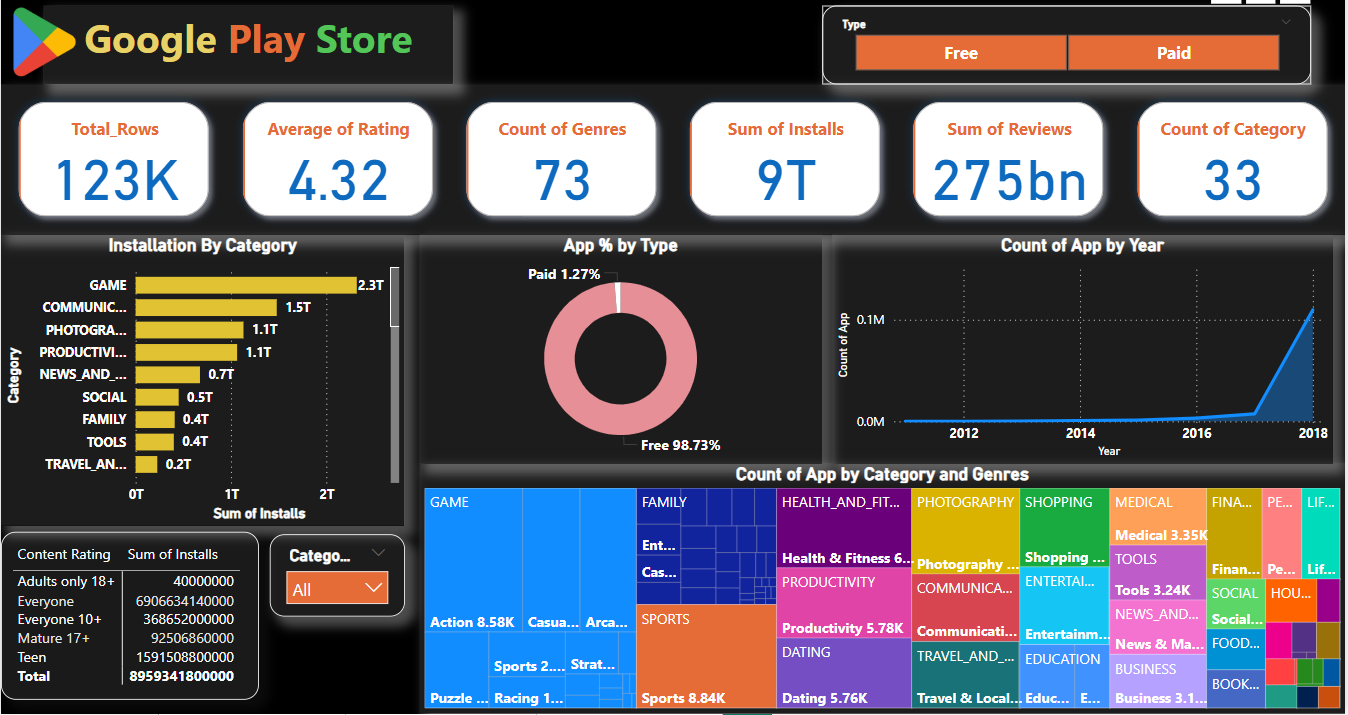

The page's visual inventory and layout, read from the dashboard file:
{"tool":"powerbi","page":{"name":"Play store Analysis-2","canvas":[1280,720],"ordinal":1},"visuals":[{"type":"cardVisual","fields":{"Data":["Playstore_user-review _analysis.Total_Rows","Avg(Playstore_user-review _analysis.Rating)","Count(Playstore_user-review _analysis.Genres)","Sum(Playstore_user-review _analysis.Installs)","Sum(Playstore_user-review _analysis.Reviews)","Count(Playstore_user-review _analysis.Category)"]},"box":[0,119.9,1280.3,143.1],"z":0},{"type":"barChart","title":"Installation By Category","fields":{"Category":["Playstore_user-review _analysis.Category"],"Y":["Sum(Playstore_user-review _analysis.Installs)"]},"box":[0,263,384.4,277.4],"z":1000},{"type":"slicer","fields":{"Values":["Playstore_user-review _analysis.Type"]},"box":[781.8,44.8,465.3,75.1],"z":2000},{"type":"textbox","box":[40.5,44.8,390.2,75.1],"z":3000},{"type":"image","box":[4.3,39,72.3,80.9],"z":4000},{"type":"donutChart","title":"App % by Type","fields":{"Category":["Playstore_user-review _analysis.Type"],"Y":["Playstore_user-review _analysis.Total_Rows"]},"box":[398.8,263,382.9,218.2],"z":5000},{"type":"areaChart","fields":{"Category":["Playstore_user-review _analysis.Last Updated.Variation.Date Hierarchy.Year","Playstore_user-review _analysis.Last Updated.Variation.Date Hierarchy.Quarter","Playstore_user-review _analysis.Last Updated.Variation.Date Hierarchy.Month","Playstore_user-review _analysis.Last Updated.Variation.Date Hierarchy.Day"],"Y":["CountNonNull(Playstore_user-review _analysis.App)"]},"box":[791.9,263,476.9,218.2],"z":6000},{"type":"pivotTable","fields":{"Rows":["Playstore_user-review _analysis.Content Rating"],"Values":["Sum(Playstore_user-review _analysis.Installs)"]},"box":[0,546.2,245.7,160.4],"z":7000},{"type":"slicer","fields":{"Values":["Playstore_user-review _analysis.Category"]},"box":[255.8,549.1,128.6,78],"z":8000},{"type":"treemap","fields":{"Group":["Playstore_user-review _analysis.Category"],"Details":["Playstore_user-review _analysis.Genres"],"Values":["CountNonNull(Playstore_user-review _analysis.App)"]},"box":[398.8,481.2,881.5,238.4],"z":9000}]}

Visuals, with their boxes on the page's 1280x720 design canvas (x1, y1, x2, y2). These are canvas units, not pixel positions in the 1348x715 screenshot, which may show the page scaled, cropped or inside an application window:
cardVisual - Playstore_user-review _analysis.Total_Rows x Avg(Playstore_user-review _analysis.Rating): (left=0, top=120, right=1280, bottom=263)
"Installation By Category" barChart: (left=0, top=263, right=384, bottom=540)
slicer - Playstore_user-review _analysis.Type: (left=782, top=45, right=1247, bottom=120)
textbox: (left=40, top=45, right=431, bottom=120)
image: (left=4, top=39, right=77, bottom=120)
"App % by Type" donutChart: (left=399, top=263, right=782, bottom=481)
areaChart - Playstore_user-review _analysis.Last Updated.Variation.Date Hierarchy.Year x Playstore_user-review _analysis.Last Updated.Variation.Date Hierarchy.Quarter: (left=792, top=263, right=1269, bottom=481)
pivotTable - Playstore_user-review _analysis.Content Rating x Sum(Playstore_user-review _analysis.Installs): (left=0, top=546, right=246, bottom=707)
slicer - Playstore_user-review _analysis.Category: (left=256, top=549, right=384, bottom=627)
treemap - Playstore_user-review _analysis.Category x Playstore_user-review _analysis.Genres: (left=399, top=481, right=1280, bottom=720)
